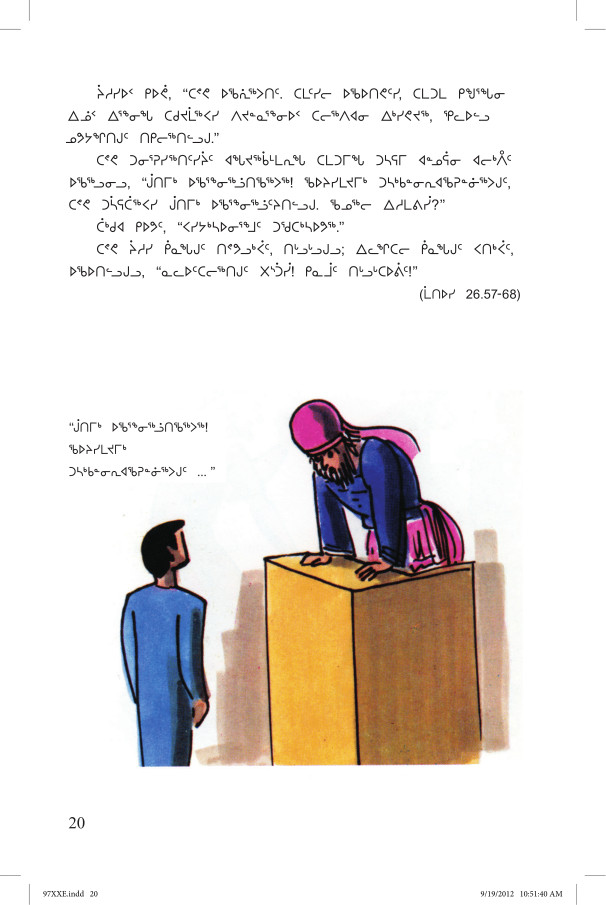inuktitut: (62, 76, 517, 284), (60, 408, 225, 483)
